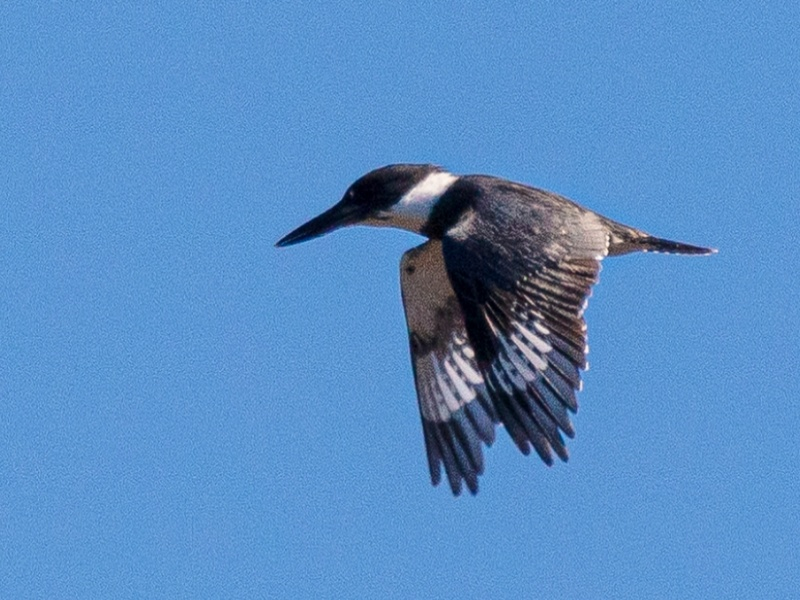kingfisher: (266, 160, 724, 499)
